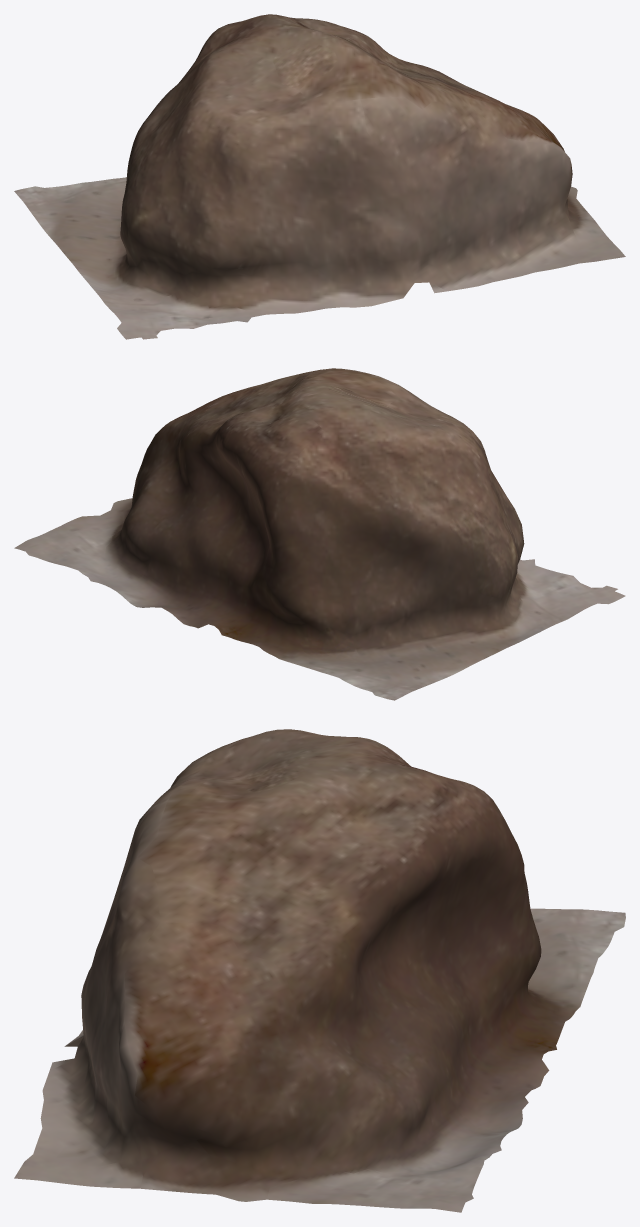
File: rock_2.dae
3 views of the same model, one above another, from view 1: azimuth 30°, elevation 25°; view 2: azimuth 150°, elevation 25°; view 3: azimuth 270°, elevation 25° (orthographic). The views are drawn at different scales.
Parts seen in each view (by area): view 1: textured; view 2: textured; view 3: textured.
Boxes of the visible parts, x1,y1,x2,y2 form: textured: [14, 14, 625, 339]; textured: [14, 368, 625, 700]; textured: [14, 729, 625, 1212].
Bounding box in the file's own units: 0.6542 × 0.4868 × 0.2441.
Materials: 4 (4 with a texture image).
